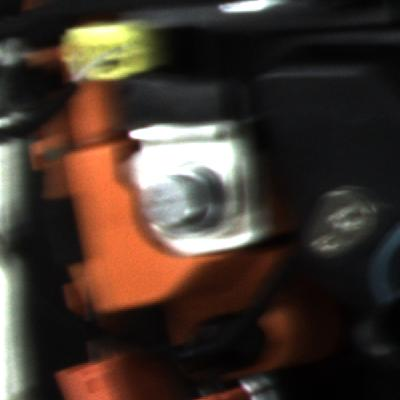nut_b: (132, 156, 227, 244)
